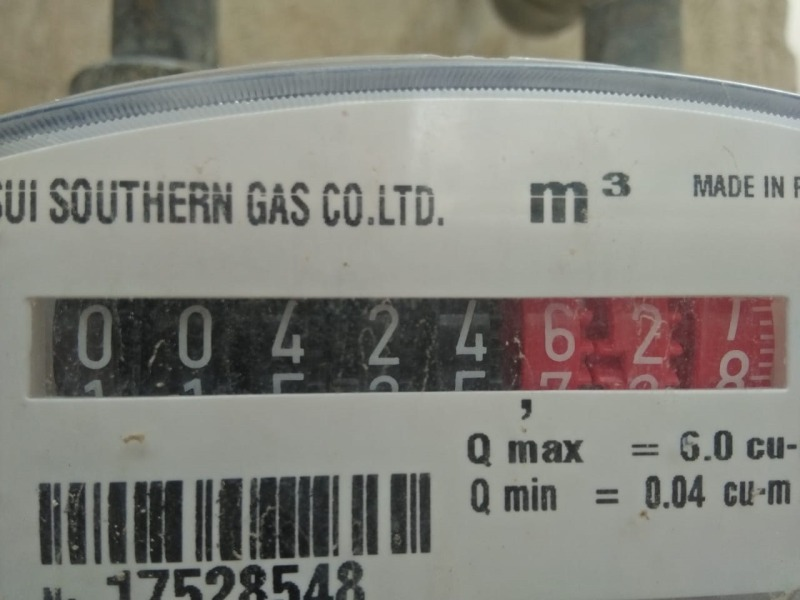ssgc: (26, 294, 788, 398)
